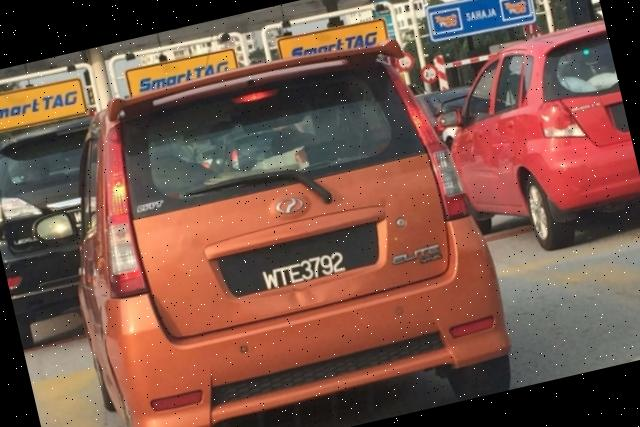License_Plate: (218, 222, 386, 301)
car: (30, 21, 531, 427)
